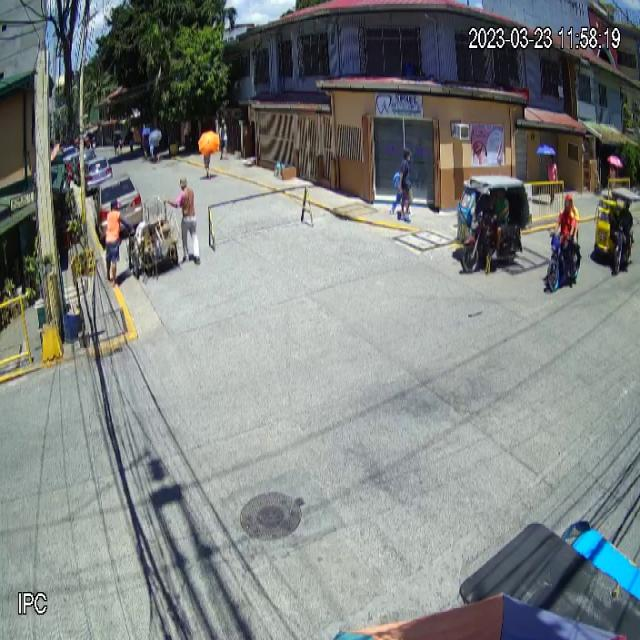Motorcycle: (544, 226, 581, 296)
Tricycle: (453, 172, 527, 276), (591, 188, 635, 278)
